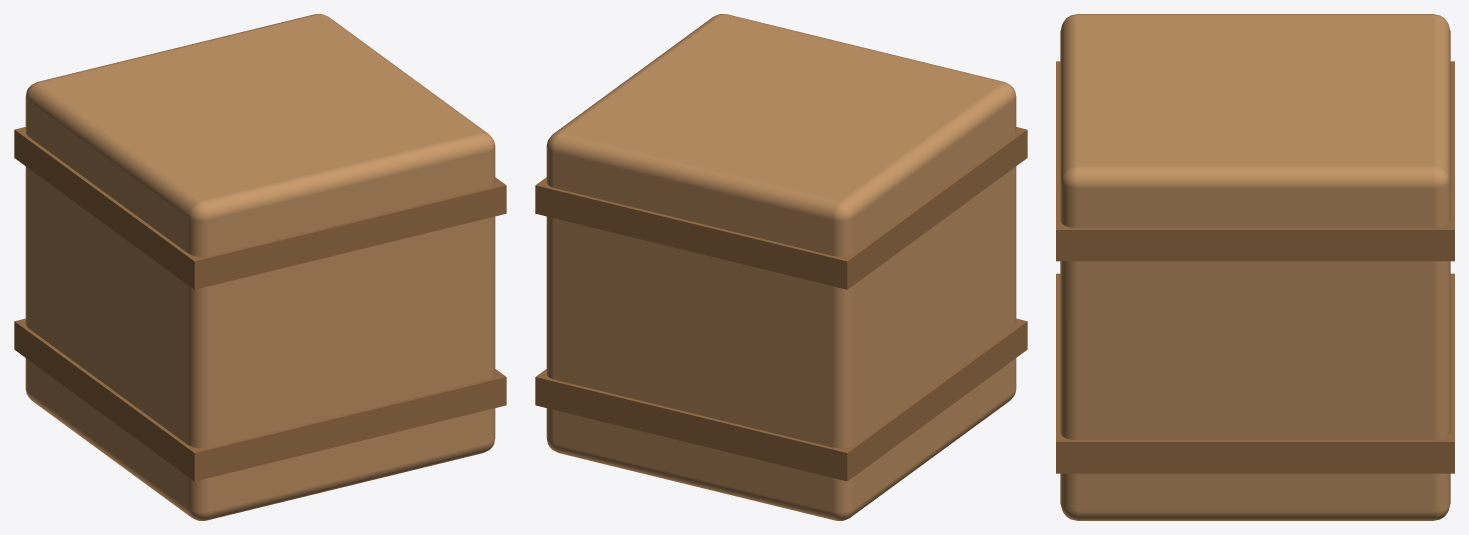
The model's file is caja.glb.
3 views of the same model, side by side, from view 1: azimuth 30°, elevation 25°; view 2: azimuth 150°, elevation 25°; view 3: azimuth 270°, elevation 25° (orthographic). The views are drawn at different scales.
Size of the model in its own units: 0.92 by 0.9 by 0.92.
